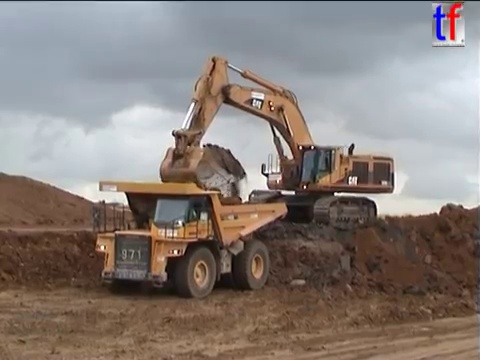excavator: (157, 54, 397, 232)
truck: (91, 178, 290, 300), (246, 187, 321, 224)
